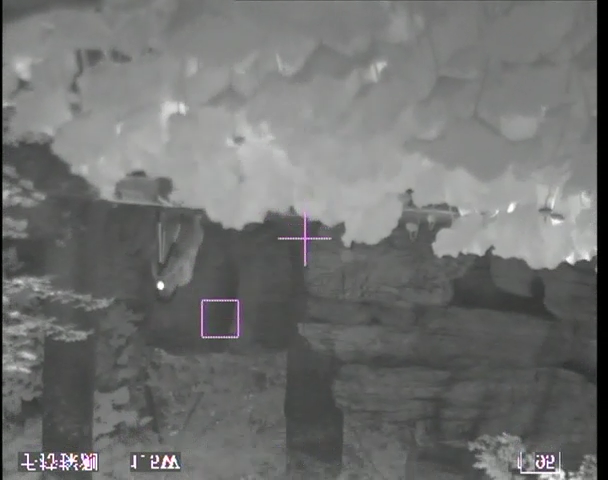my: (155, 279, 167, 291)
